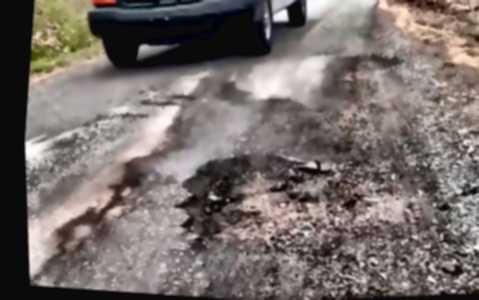pothole: (163, 136, 353, 265)
